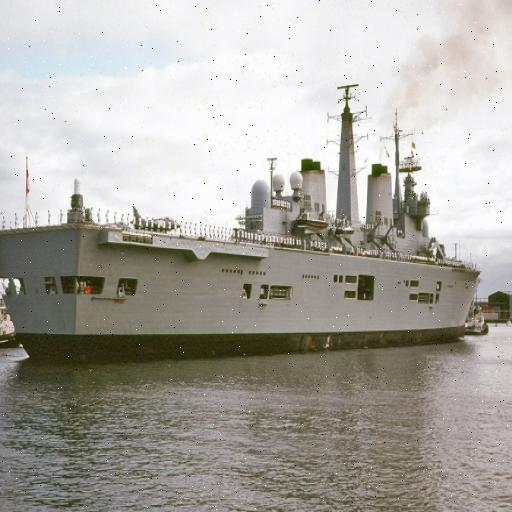Portanaves: (1, 70, 485, 370)
